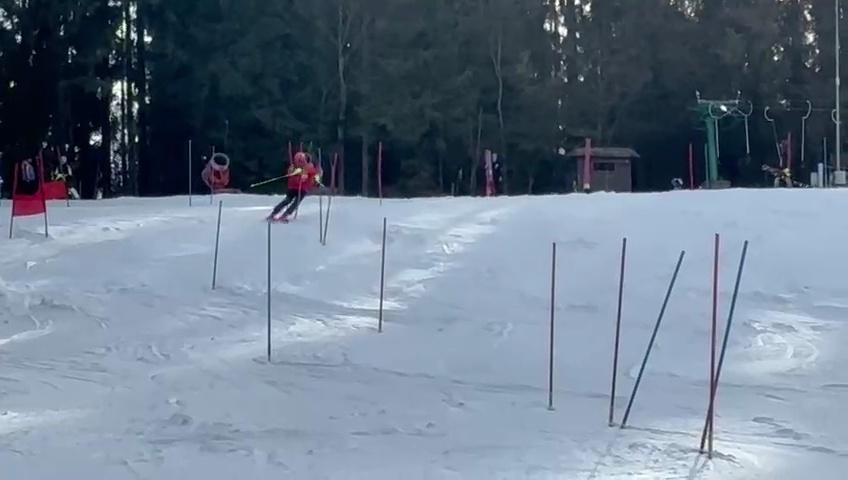gate: (618, 237, 690, 435), (698, 226, 753, 467), (606, 231, 628, 428), (540, 235, 563, 413), (258, 214, 282, 365), (372, 215, 391, 337), (322, 141, 339, 251), (3, 149, 23, 241), (33, 146, 53, 238), (209, 195, 226, 293), (293, 139, 311, 231), (327, 139, 341, 242), (315, 146, 325, 248), (373, 137, 386, 204), (184, 138, 196, 208), (206, 144, 217, 202), (484, 147, 495, 202)
